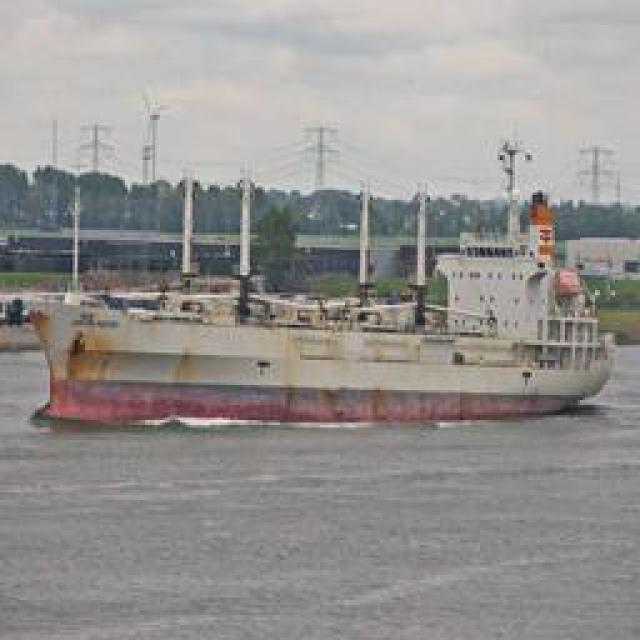Ship: (19, 272, 622, 435)
